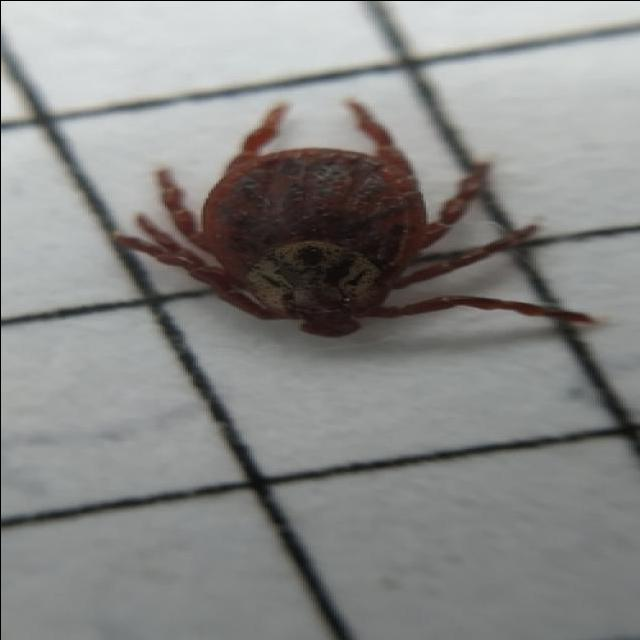Dermacentor Reticulatus-F: (118, 95, 584, 338)
